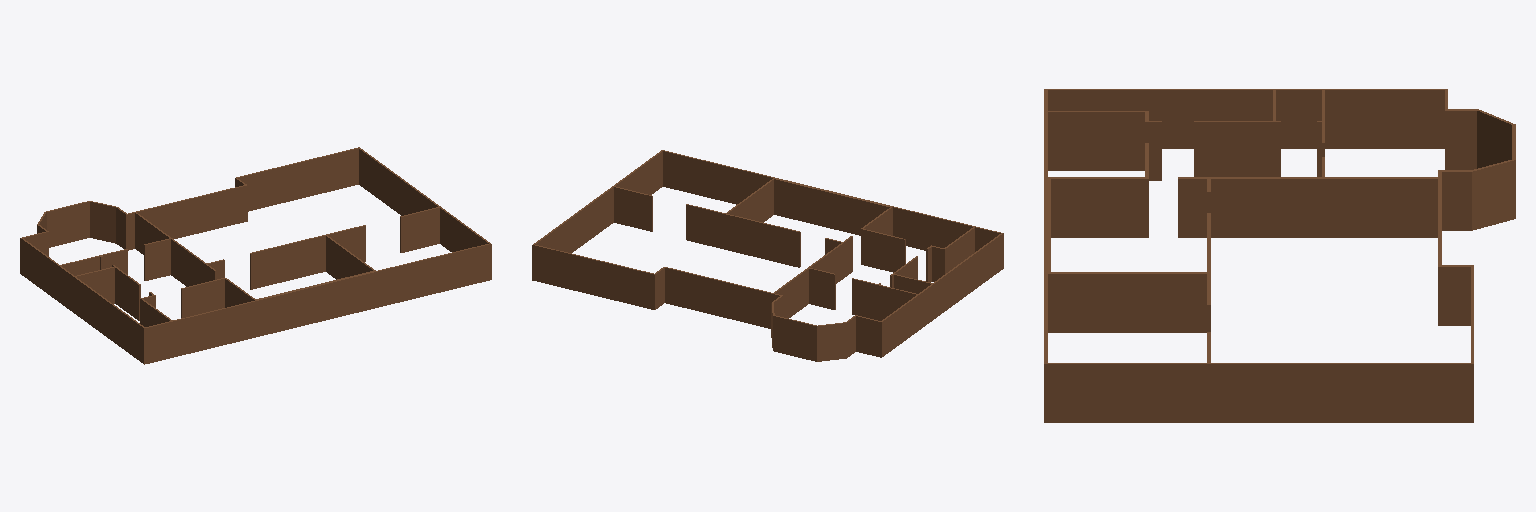
The robot description file, URDF, robot "home_floor_plan":
<robot
  name="home_floor_plan">
  <link
    name="home_floor_plan">
    <inertial>
      <origin
        xyz="-0.96729 3.31 1"
        rpy="0 0 0" />
      <mass
        value="23856" />
      <inertia
        ixx="571534.18113589"
        ixy="-25812.1155177834"
        ixz="2.39459372637696E-11"
        iyy="1065851.889357"
        iyz="1.10847414353603E-10"
        izz="1621482.16671519" />
    </inertial>
    <visual>
      <origin
        xyz="0 0 0"
        rpy="1.5707963267949 0 0" />
      <geometry>
        <mesh
          filename="package://home_floor_plan/meshes/home_floor_plan.STL" />
      </geometry>
      <material
        name="">
        <color
          rgba="0.5215686274509 0.3686274509803 0.2588235294117 1" />
      </material>
    </visual>
    <collision>
      <origin
        xyz="0 0 0"
        rpy="1.5707963267949 0 0" />
      <geometry>
        <mesh
          filename="package://home_floor_plan/meshes/home_floor_plan.STL" />
      </geometry>
    </collision>
  </link>
</robot>

--- Facts derived from the render (not from the file) ---
Views: 3 orthographic renders of the robot side by side, from view 1: azimuth 30°, elevation 25°; view 2: azimuth 150°, elevation 25°; view 3: azimuth 270°, elevation 25°.
Model home_floor_plan with 1 links and 0 joints (none), rooted at home_floor_plan, posed every joint at zero.
Visible links, largest first — view 1: home_floor_plan; view 2: home_floor_plan; view 3: home_floor_plan.
Boxes of the visible links, x1,y1,x2,y2 form: home_floor_plan: [20, 147, 491, 364]; home_floor_plan: [532, 150, 1003, 361]; home_floor_plan: [1044, 89, 1515, 422].
Size in the robot's own frame: 20.05 by 14.47 by 2 metres.
Meshes: 1 distinct files referenced, 1 mesh visuals loaded (1 binary STL).